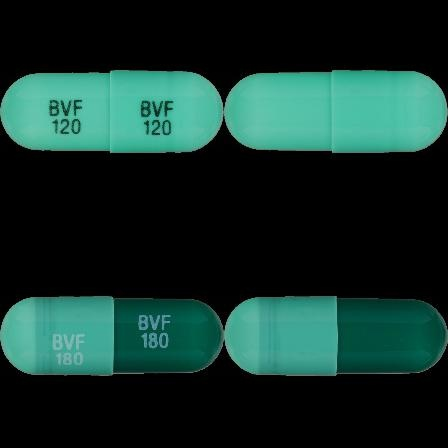42291-236: (0, 0, 224, 224)
